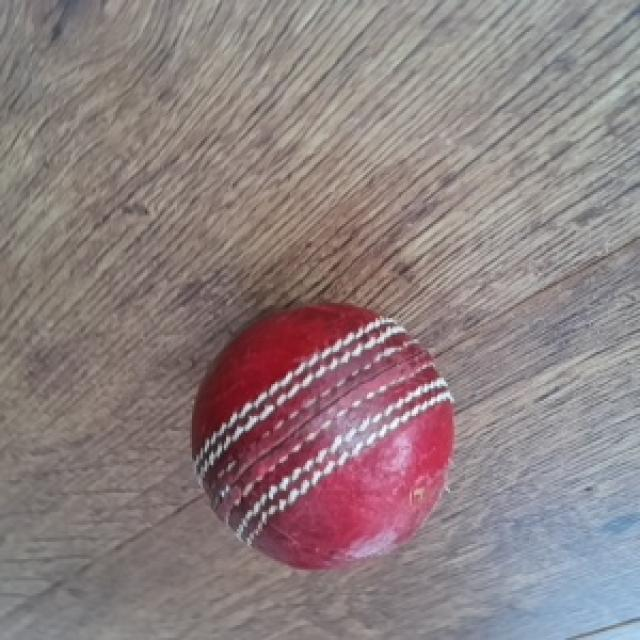ball: (183, 298, 453, 562)
